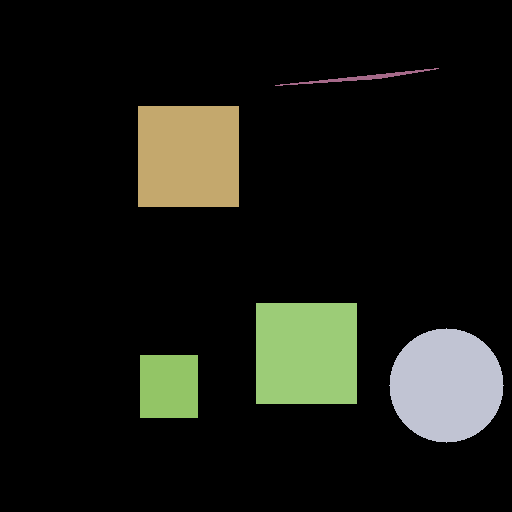circle: (389, 328, 503, 442)
square: (256, 303, 356, 403), (138, 106, 238, 206), (140, 355, 197, 417)
